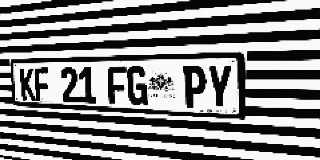1: (77, 67, 96, 103)
2: (61, 67, 79, 103)
F: (107, 67, 127, 105), (34, 68, 51, 101)
G: (127, 66, 148, 106)
K: (19, 68, 36, 101)
P: (183, 65, 206, 108)
Y: (207, 65, 232, 110)
